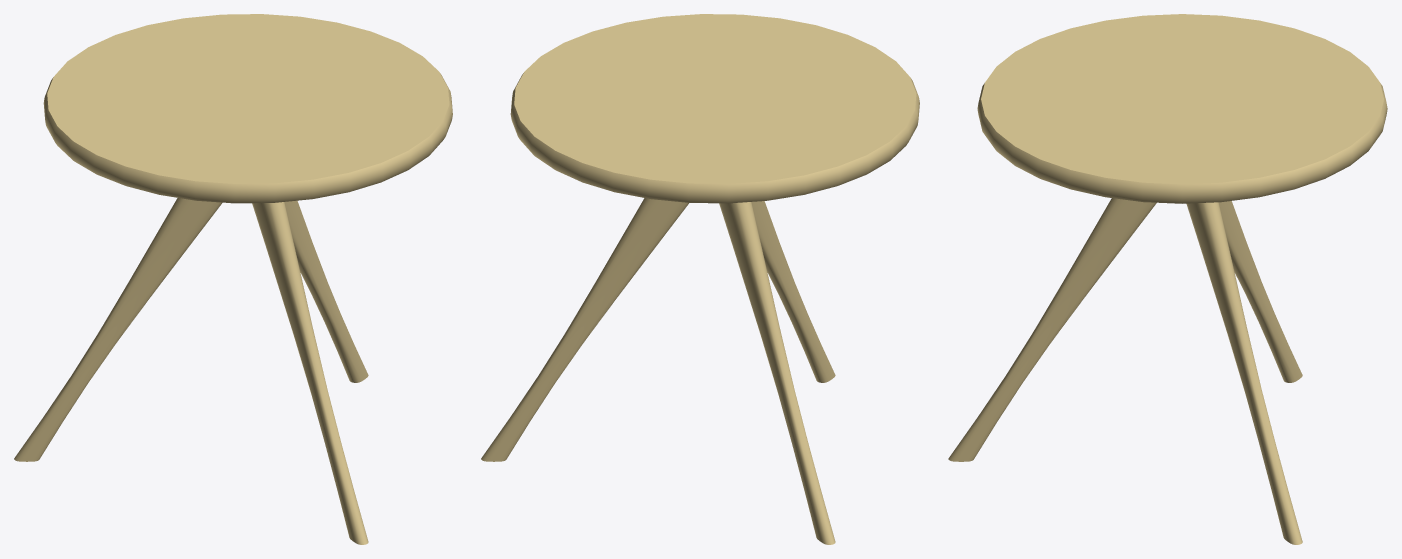
The model's file is table_end_a_01.FBX.
3 views of the same model, side by side, from view 1: azimuth 30°, elevation 25°; view 2: azimuth 150°, elevation 25°; view 3: azimuth 270°, elevation 25° (orthographic).
Parts seen in each view (by area): view 1: table_end_a_01; view 2: table_end_a_01; view 3: table_end_a_01.
Boxes of the visible parts, x1=… form: table_end_a_01: x1=14, y1=14, x2=452, y2=544; table_end_a_01: x1=481, y1=14, x2=919, y2=544; table_end_a_01: x1=948, y1=14, x2=1387, y2=544.
Bounding box in the file's own units: 0.4937 × 0.4779 × 0.5288.
